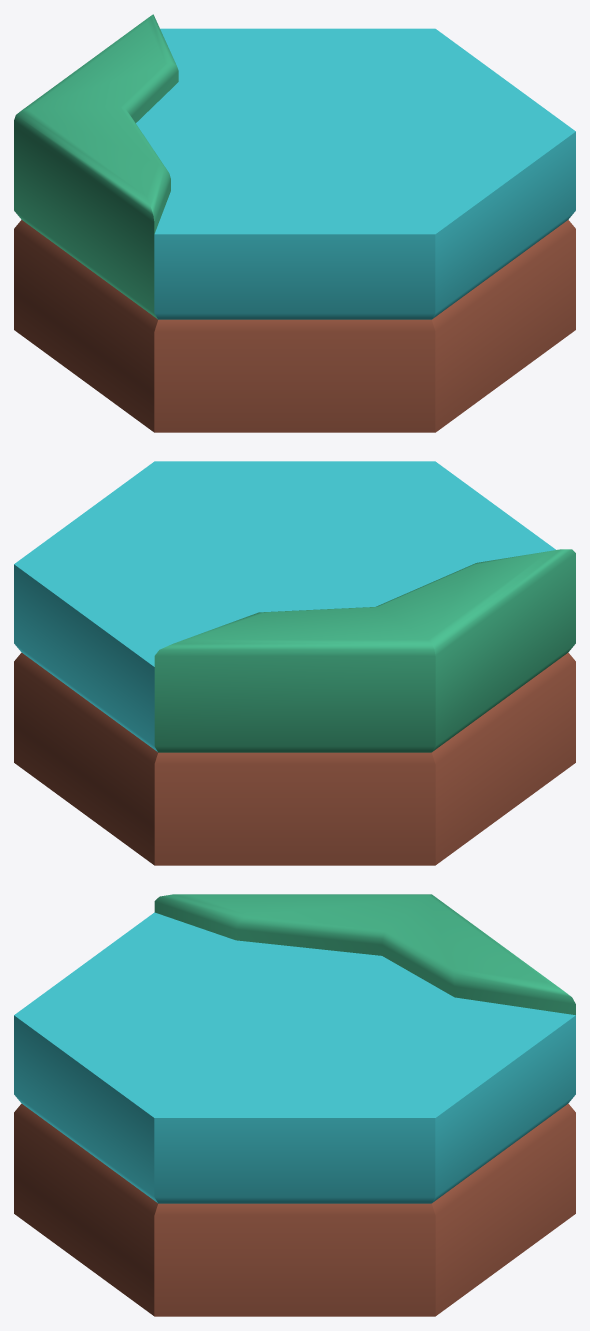
Rendered from hex_forest_waterA_detail.glb.
3 views of the same model, one above another, from view 1: azimuth 30°, elevation 25°; view 2: azimuth 150°, elevation 25°; view 3: azimuth 270°, elevation 25° (orthographic).
Visible parts, largest first — view 1: hex_forest_waterA_detail; view 2: hex_forest_waterA_detail; view 3: hex_forest_waterA_detail.
Boxes of the visible parts, <box> form: hex_forest_waterA_detail: <box>14,14,575,432</box>; hex_forest_waterA_detail: <box>14,461,575,865</box>; hex_forest_waterA_detail: <box>14,894,575,1316</box>.
Size of the model in its own units: 3.43 by 1.72 by 3.96.
